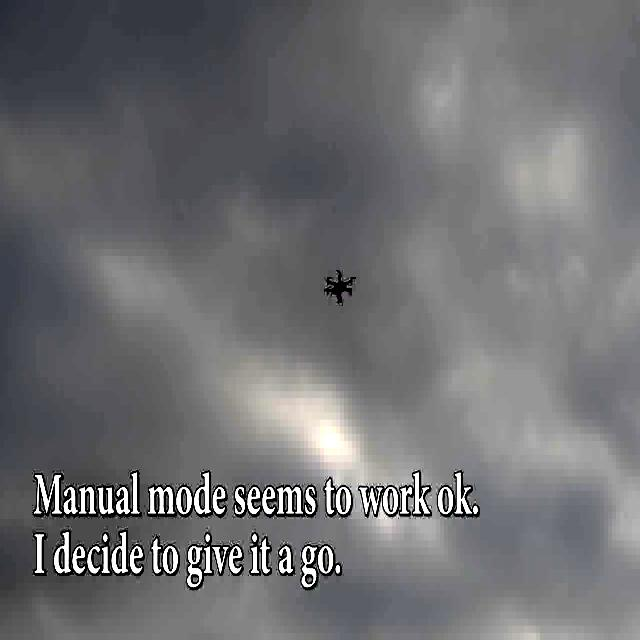drone: (322, 264, 357, 306)
